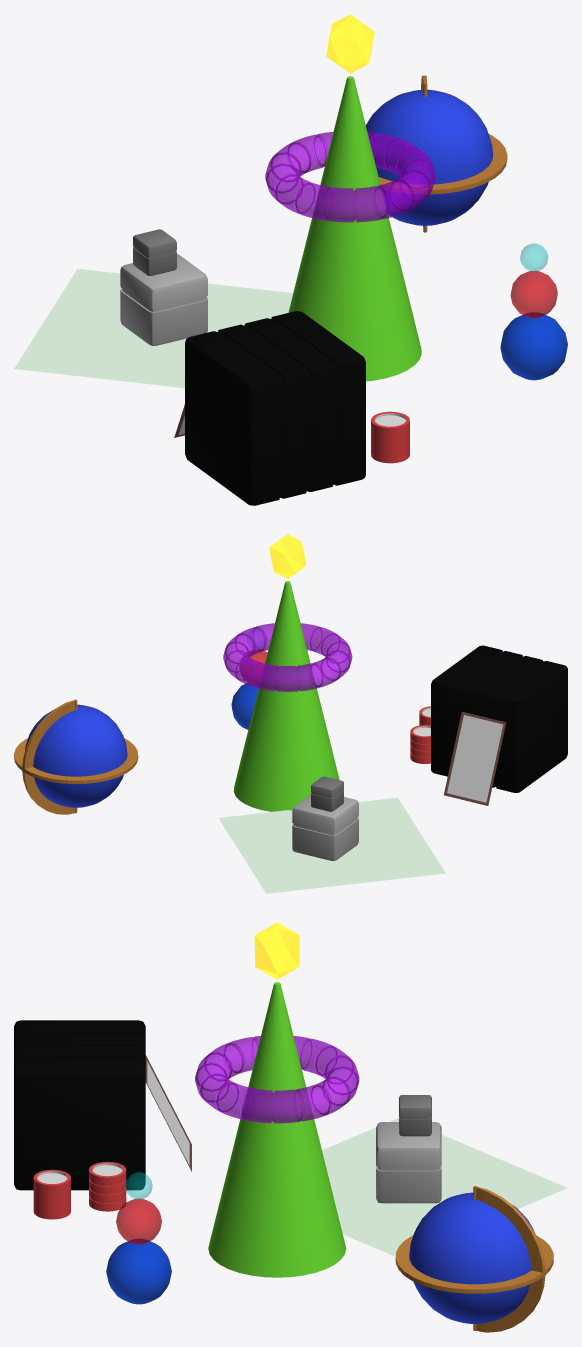
The model's file is mesh_party.fbx.
3 views of the same model, one above another, from view 1: azimuth 30°, elevation 25°; view 2: azimuth 150°, elevation 25°; view 3: azimuth 270°, elevation 25° (orthographic). The views are drawn at different scales.
Parts seen in each view (by area): view 1: Cube, Cylinder, Plane.001, Sphere, Torus, Cube.001, Sphere.001, Icosphere, Cylinder.001, Sphere.002, Cube.002, Sphere.003; view 2: Cube, Cylinder, Plane.001, Sphere, Torus, Plane, Cube.001, Icosphere, Cube.002, Sphere.001, Cylinder.002, Sphere.002; view 3: Cylinder, Cube, Sphere, Plane.001, Torus, Cube.001, Sphere.001, Icosphere, Cylinder.001, Cylinder.002, Sphere.002, Cube.002 (+2 smaller).
Boxes of the visible parts, x1,y1,x2,y2 form: Cube: (185, 311, 365, 505); Cylinder: (288, 76, 421, 381); Plane.001: (14, 268, 293, 388); Sphere: (366, 75, 507, 232); Torus: (265, 131, 435, 222); Cube.001: (120, 254, 207, 345); Sphere.001: (500, 312, 567, 380); Icosphere: (326, 14, 374, 73); Cylinder.001: (371, 411, 409, 463); Sphere.002: (510, 271, 557, 318); Cube.002: (133, 229, 176, 275); Sphere.003: (520, 243, 547, 271); Cube: (431, 645, 567, 792); Cylinder: (233, 581, 339, 811); Plane.001: (218, 797, 445, 893); Sphere: (14, 699, 138, 814); Torus: (223, 623, 352, 691); Plane: (444, 711, 506, 805); Cube.001: (292, 794, 358, 860); Icosphere: (269, 534, 305, 578); Cube.002: (311, 776, 343, 811); Sphere.001: (231, 683, 258, 729); Cylinder.002: (410, 725, 430, 763); Sphere.002: (240, 650, 267, 684); Cylinder: (208, 982, 346, 1277); Cube: (14, 1020, 145, 1190); Sphere: (395, 1186, 553, 1332); Plane.001: (322, 1118, 567, 1256); Torus: (195, 1036, 359, 1123); Cube.001: (376, 1122, 441, 1203); Sphere.001: (106, 1239, 171, 1304); Icosphere: (254, 922, 299, 979); Cylinder.001: (33, 1169, 70, 1219); Cylinder.002: (89, 1161, 126, 1211); Sphere.002: (116, 1199, 161, 1244); Cube.002: (399, 1095, 431, 1136).
Bounding box in the file's own units: 882 × 547 × 842.
